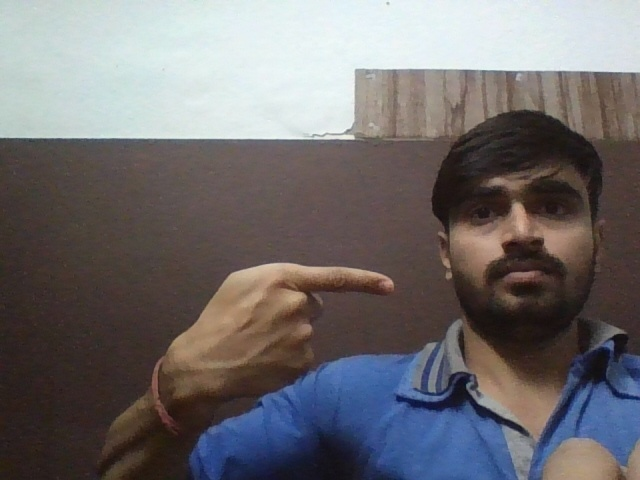G: (190, 265, 401, 384)
